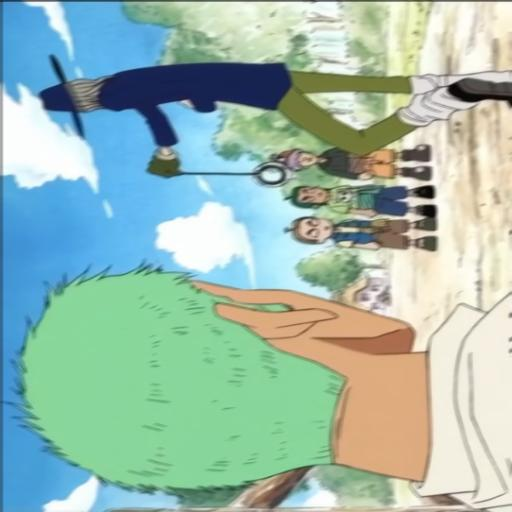Zoro: (29, 243, 512, 512)
